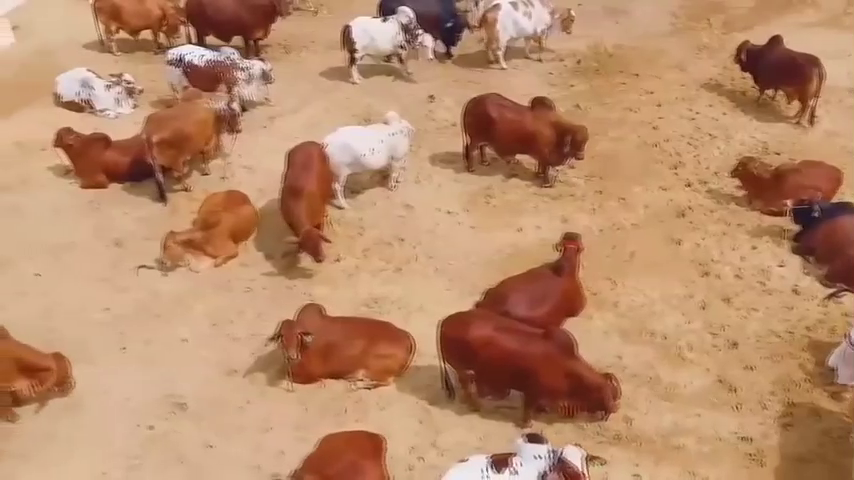bo: (425, 305, 634, 427), (453, 88, 600, 195), (469, 218, 602, 336), (266, 300, 424, 399), (133, 83, 249, 186), (316, 94, 415, 208), (425, 418, 595, 480), (156, 181, 263, 279), (722, 24, 827, 123), (33, 115, 152, 202), (334, 4, 451, 92), (270, 123, 337, 275), (2, 314, 79, 444), (162, 41, 275, 110), (729, 145, 838, 216), (179, 1, 299, 58), (474, 5, 585, 66), (285, 421, 397, 480), (81, 3, 186, 57), (46, 61, 141, 116)
